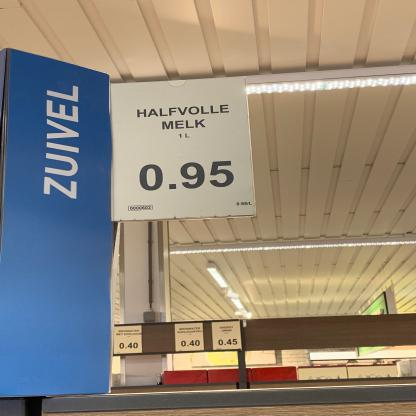prtg: (111, 76, 260, 224)
